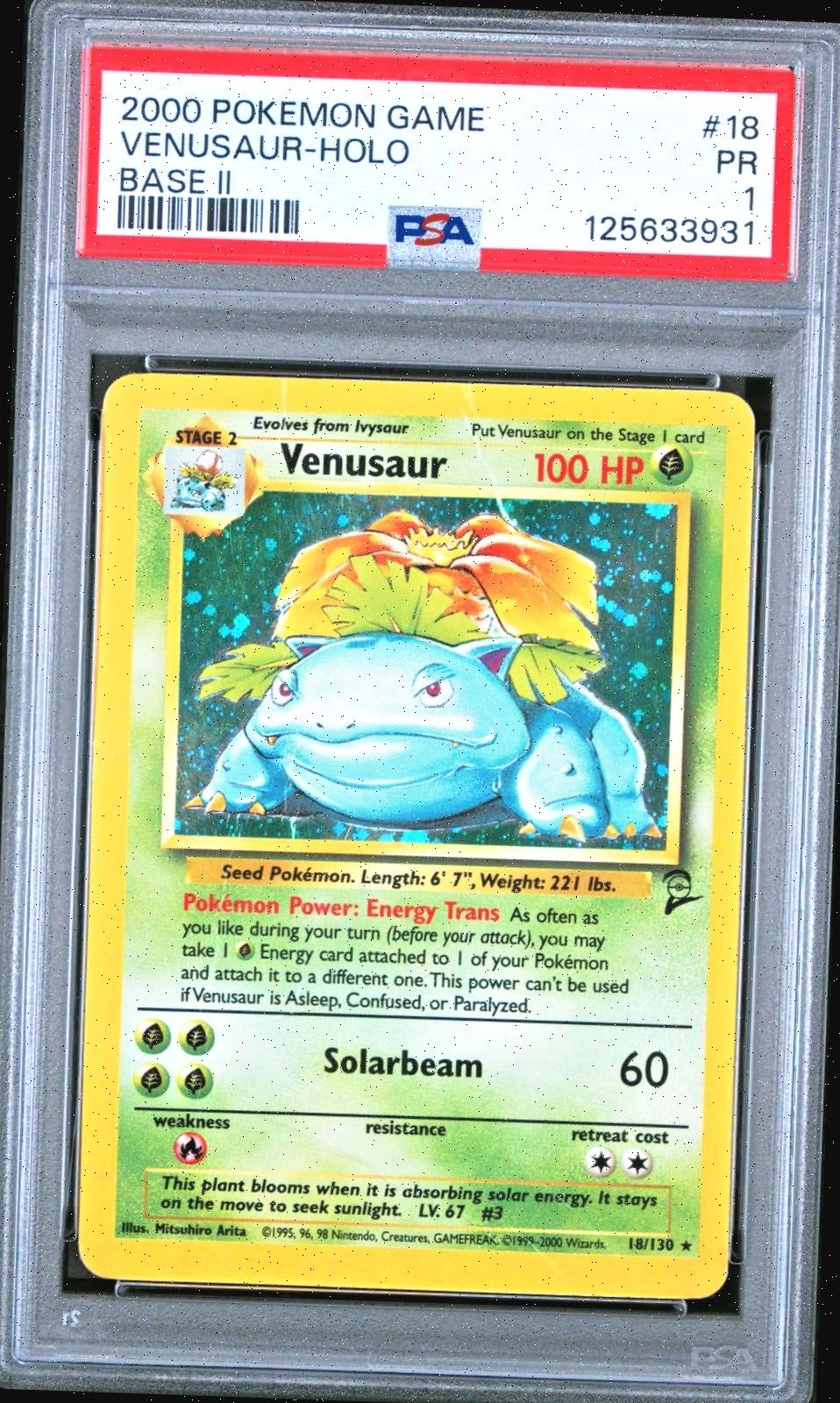card-2UtV: (77, 372, 756, 1300)
